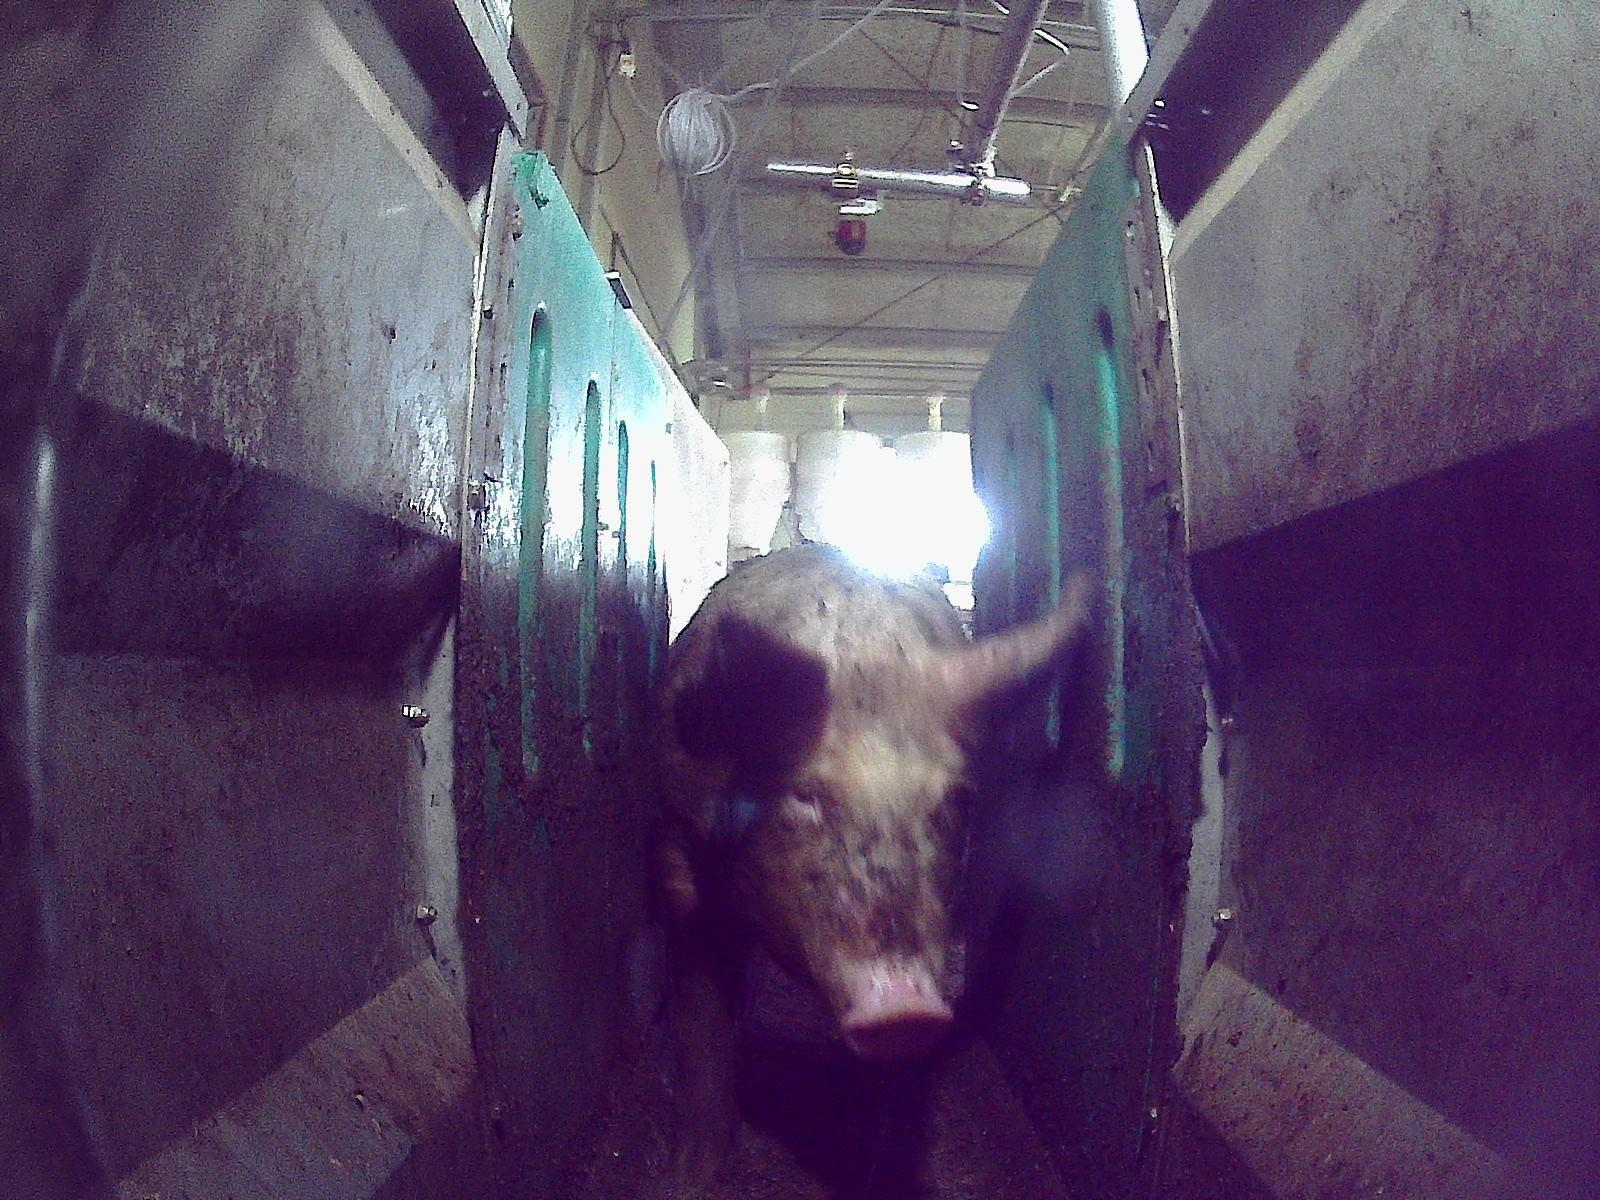Face: (733, 677, 978, 1056)
